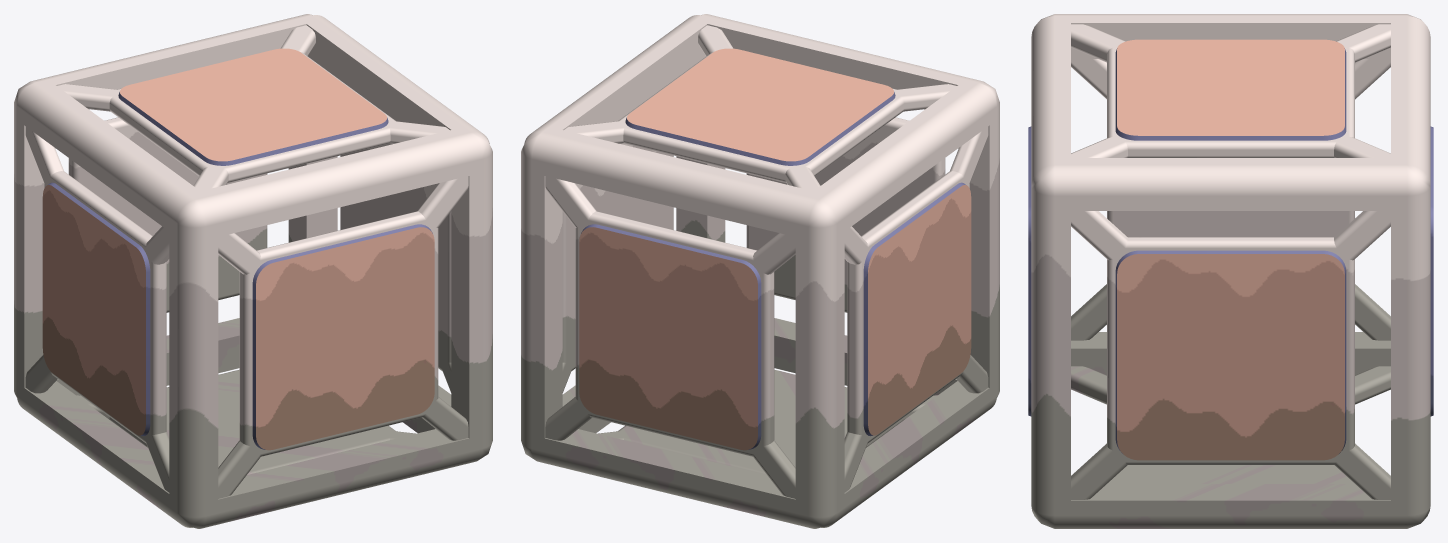
File: R4B_TrussCube.glb
3 renders of one model, left to right at view 1: azimuth 30°, elevation 25°; view 2: azimuth 150°, elevation 25°; view 3: azimuth 270°, elevation 25°, orthographic. The views are drawn at different scales.
Parts seen in each view (by area): view 1: R4B_TrussCube; view 2: R4B_TrussCube; view 3: R4B_TrussCube.
Part boxes in pixels (x1=…): R4B_TrussCube: x1=14, y1=14, x2=492, y2=528; R4B_TrussCube: x1=521, y1=14, x2=999, y2=528; R4B_TrussCube: x1=1028, y1=14, x2=1433, y2=528.
Size of the model in its own units: 0.52 by 0.52 by 0.52.
Materials: 3 (3 with a texture image).
